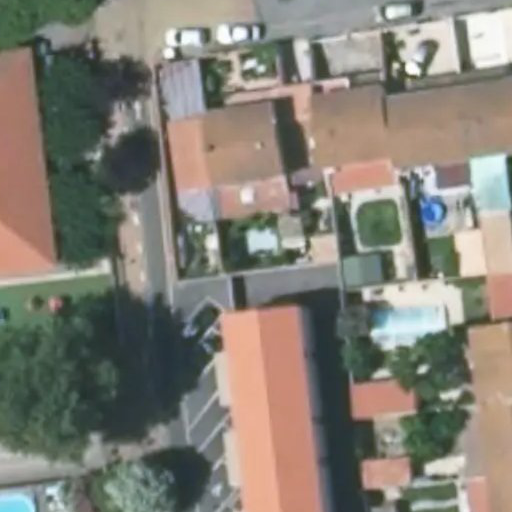pool: (231, 234, 281, 249)
